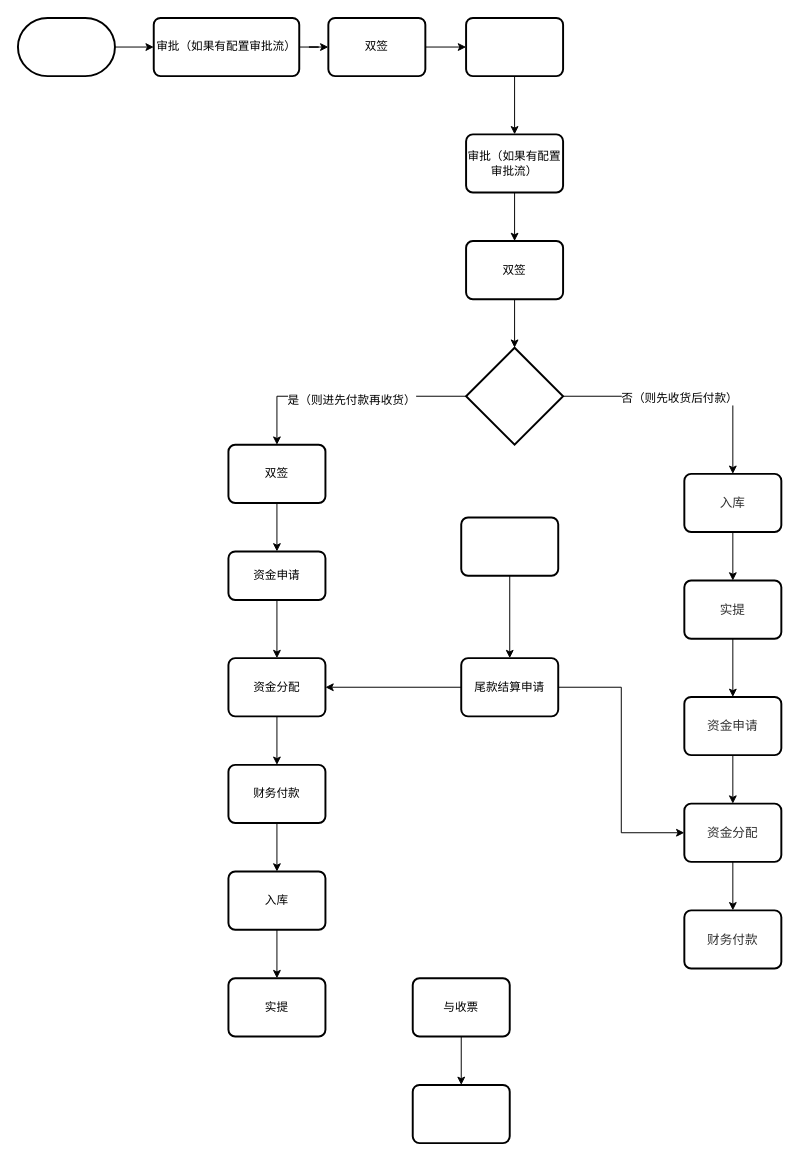
Image size: 798x1160. Some labels were removed from this diagram. Here are the shapes that lost their labels. From the top down, the centre of each, then its label:
At (x=65, y=46): "内贸采购合同".
At (x=514, y=46): "创建批次".
At (x=514, y=395): "对手方 是否授信".
At (x=509, y=546): "结算".
At (x=460, y=1113): "收票".
